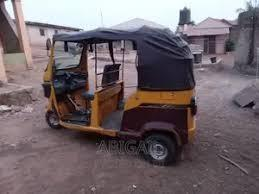keke: (40, 18, 204, 175)
